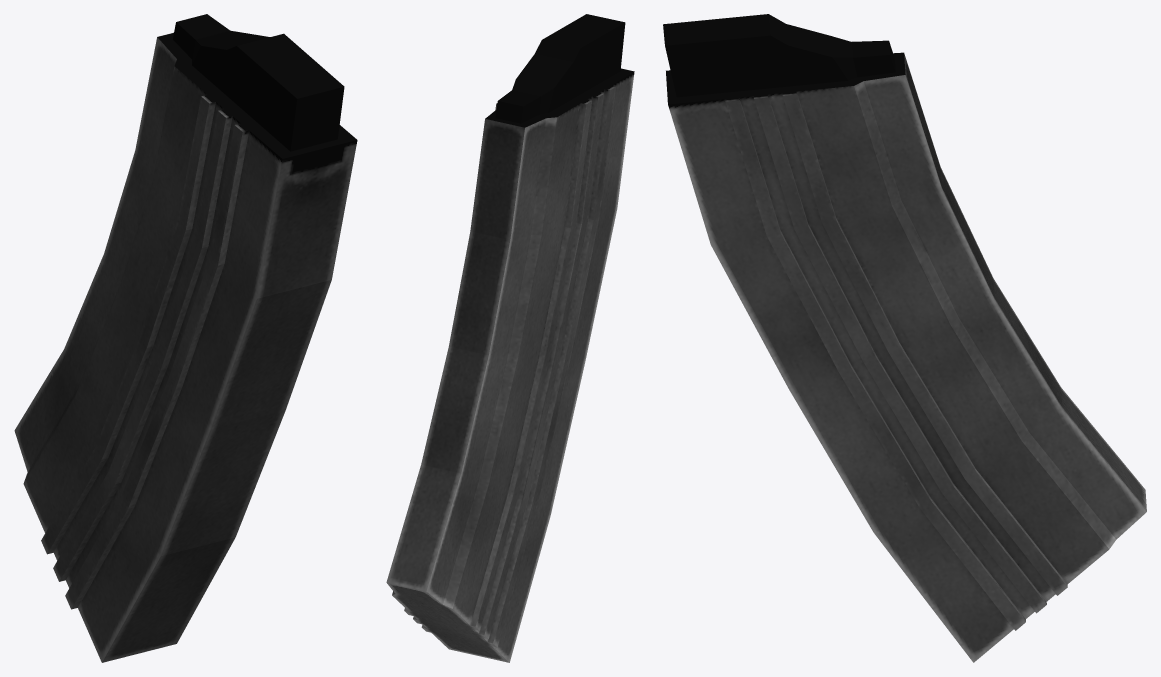
Rendered from akMagRe.glb.
3 renders of one model, left to right at view 1: azimuth 30°, elevation 25°; view 2: azimuth 150°, elevation 25°; view 3: azimuth 270°, elevation 25°, orthographic. The views are drawn at different scales.
Parts seen in each view (by area): view 1: ak.001; view 2: ak.001; view 3: ak.001.
Part boxes in pixels (bbox=[...]): ak.001: bbox=[14, 14, 357, 662]; ak.001: bbox=[386, 14, 634, 662]; ak.001: bbox=[663, 14, 1146, 662].
Bounding box in the file's own units: 0.0201 × 0.132 × 0.0926.
1 material, 1 textured.
